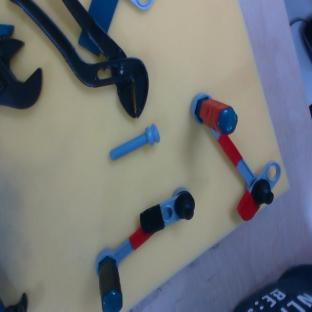non_pass: (73, 172, 204, 312)
pass: (172, 80, 295, 223)
